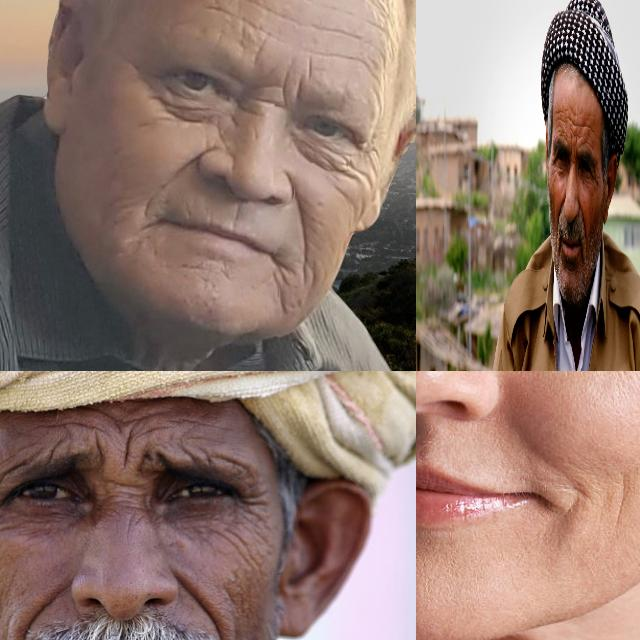crows_feet: (346, 138, 379, 194), (144, 82, 170, 118), (237, 488, 266, 520), (0, 494, 12, 526), (550, 150, 556, 176), (591, 166, 597, 189)
forehead: (314, 23, 390, 75), (217, 0, 267, 55), (100, 409, 136, 428), (176, 412, 208, 432), (54, 415, 90, 431), (42, 440, 62, 464), (138, 420, 166, 436), (579, 118, 593, 136), (556, 106, 564, 136), (568, 111, 578, 132), (580, 136, 590, 150)
frown_line: (248, 75, 290, 112), (120, 434, 136, 466), (90, 440, 108, 464), (570, 139, 578, 160)
gummy_smile: (288, 186, 314, 270), (20, 582, 61, 634), (158, 138, 218, 172), (182, 577, 215, 633), (557, 196, 564, 224), (579, 206, 586, 232)
masseter: (613, 468, 637, 530)
sad_smile: (560, 480, 592, 538), (138, 187, 158, 243), (273, 270, 295, 314)
smoker_lines: (226, 200, 242, 226)
